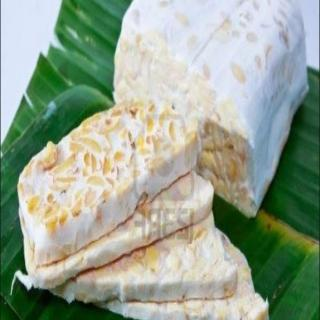Tempe: (13, 1, 310, 320), (113, 1, 310, 219), (12, 171, 271, 320)
